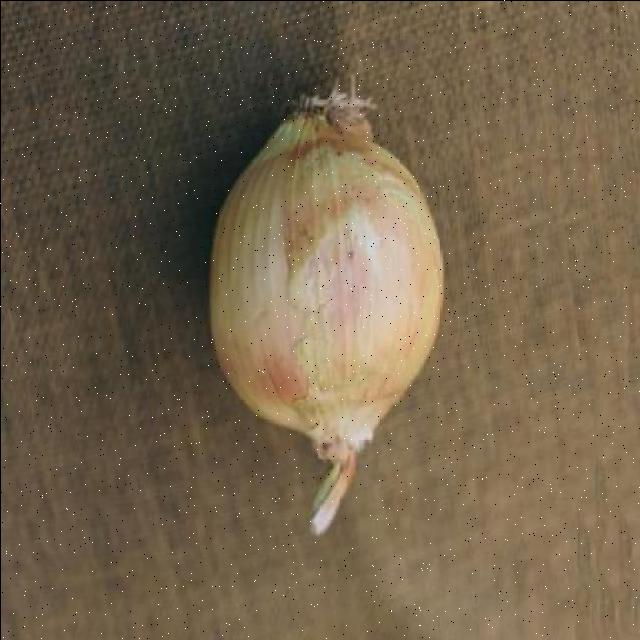Onion: (209, 90, 442, 534)
